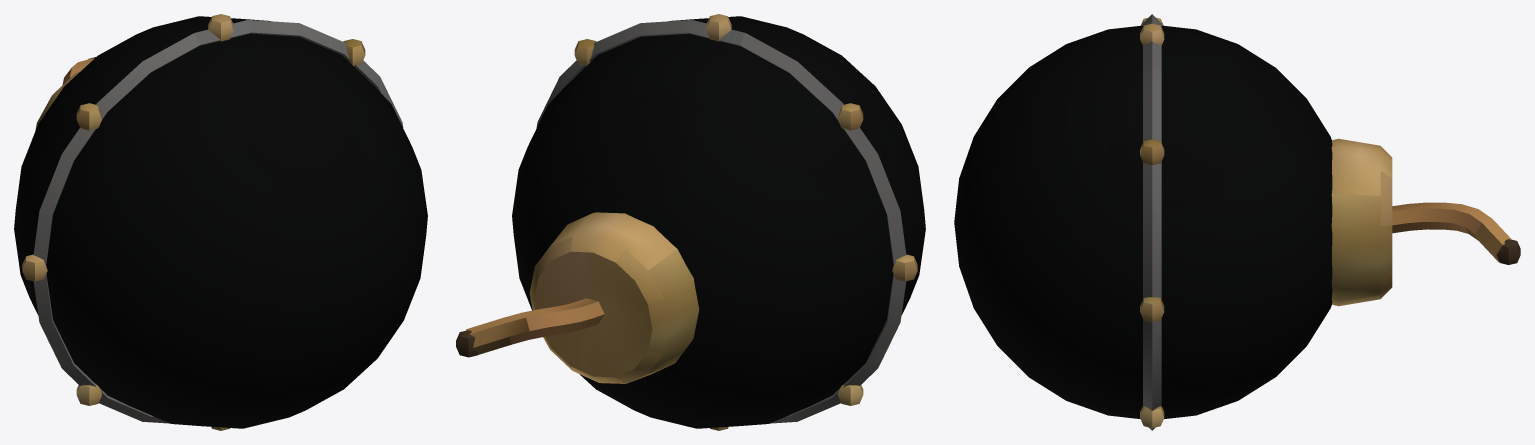
File: bomb.glb
3 views of the same model, side by side, from view 1: azimuth 30°, elevation 25°; view 2: azimuth 150°, elevation 25°; view 3: azimuth 270°, elevation 25° (orthographic). The views are drawn at different scales.
Visible parts, largest first — view 1: bomb; view 2: bomb; view 3: bomb.
Boxes of the visible parts, box(x1,y1,x2,y2) form: bomb: box(14, 14, 427, 430); bomb: box(456, 14, 925, 430); bomb: box(954, 14, 1520, 430).
Size of the model in its own units: 0.188 by 0.188 by 0.2432.
5 materials, 4 textured.
